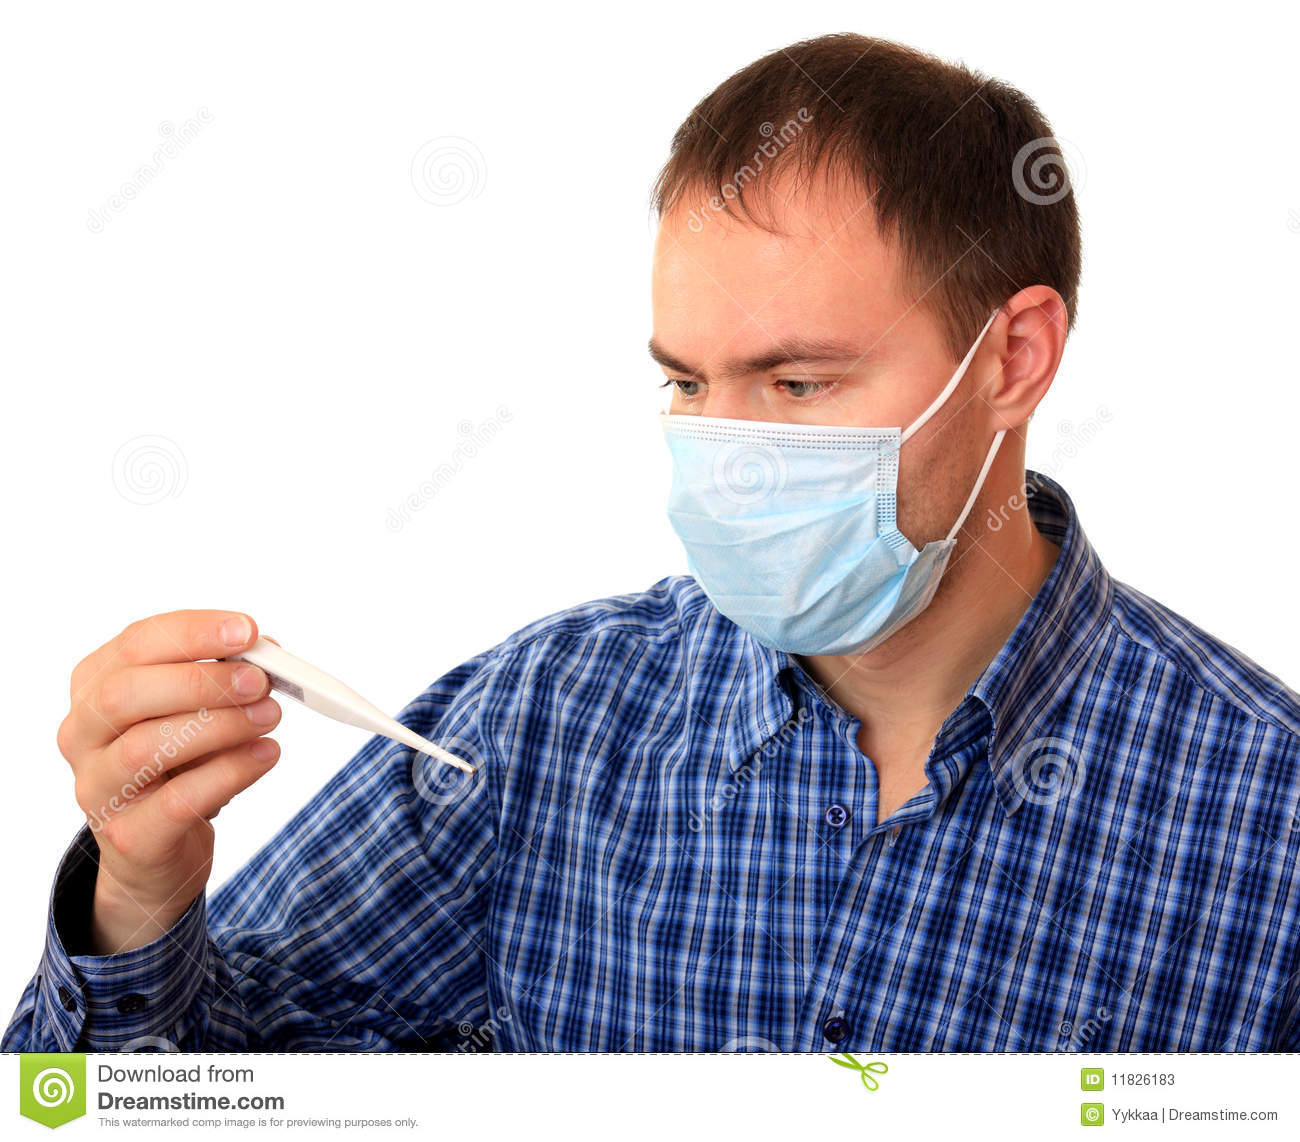mask: (643, 429, 927, 652)
